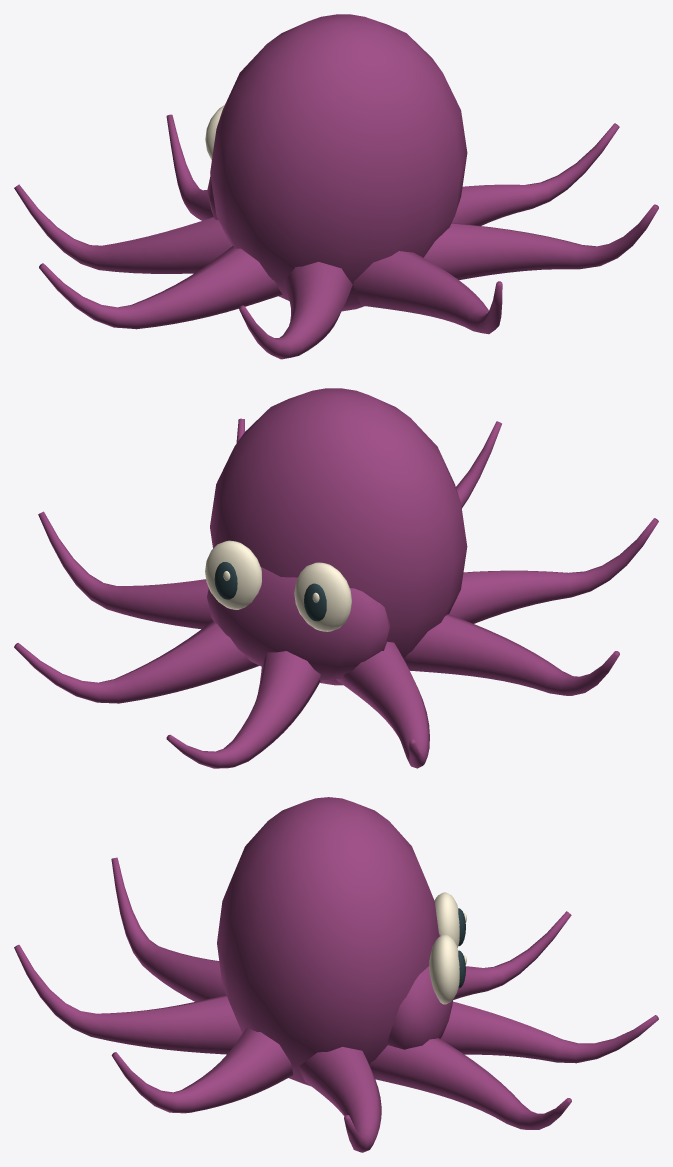
The model's file is octopus.glb.
3 views of the same model, one above another, from view 1: azimuth 30°, elevation 25°; view 2: azimuth 150°, elevation 25°; view 3: azimuth 270°, elevation 25° (orthographic). The views are drawn at different scales.
Visible parts, largest first — view 1: Face, Arm mesh.004, Arm mesh.007, Arm mesh.006, Arm mesh.003, Arm mesh.005, Arm mesh, Arm mesh.002; view 2: Face, Arm mesh.004, Arm mesh.001, Arm mesh.002, Arm mesh.005, Arm mesh, Arm mesh.003, Eye, Pupil, Arm mesh.006; view 3: Face, Arm mesh.006, Arm mesh.001, Arm mesh.007, Arm mesh.002, Arm mesh, Arm mesh.005, Eye, Arm mesh.003.
Part boxes in pixels (x1=…): Face: x1=207, y1=14, x2=467, y2=311; Arm mesh.004: x1=39, y1=246, x2=282, y2=329; Arm mesh.007: x1=424, y1=204, x2=658, y2=280; Arm mesh.006: x1=353, y1=251, x2=502, y2=334; Arm mesh.003: x1=14, y1=184, x2=231, y2=273; Arm mesh.005: x1=239, y1=261, x2=352, y2=359; Arm mesh: x1=452, y1=123, x2=619, y2=225; Arm mesh.002: x1=166, y1=114, x2=213, y2=220; Face: x1=207, y1=388, x2=467, y2=685; Arm mesh.004: x1=404, y1=614, x2=619, y2=695; Arm mesh.001: x1=14, y1=621, x2=259, y2=703; Arm mesh.002: x1=166, y1=651, x2=320, y2=768; Arm mesh.005: x1=449, y1=518, x2=658, y2=623; Arm mesh: x1=38, y1=511, x2=212, y2=629; Arm mesh.003: x1=336, y1=641, x2=429, y2=768; Eye: x1=205, y1=540, x2=351, y2=631; Pupil: x1=214, y1=562, x2=326, y2=621; Arm mesh.006: x1=456, y1=421, x2=501, y2=508; Face: x1=217, y1=797, x2=452, y2=1086; Arm mesh.006: x1=14, y1=945, x2=242, y2=1054; Arm mesh.001: x1=369, y1=1038, x2=571, y2=1129; Arm mesh.007: x1=111, y1=1027, x2=293, y2=1113; Arm mesh.002: x1=440, y1=1001, x2=658, y2=1063; Arm mesh: x1=299, y1=1047, x2=381, y2=1152; Arm mesh.005: x1=111, y1=857, x2=225, y2=1001; Eye: x1=429, y1=892, x2=466, y2=1004; Arm mesh.003: x1=453, y1=911, x2=571, y2=999.
Bounding box in the file's own units: 11.06 × 5.1 × 10.98.
